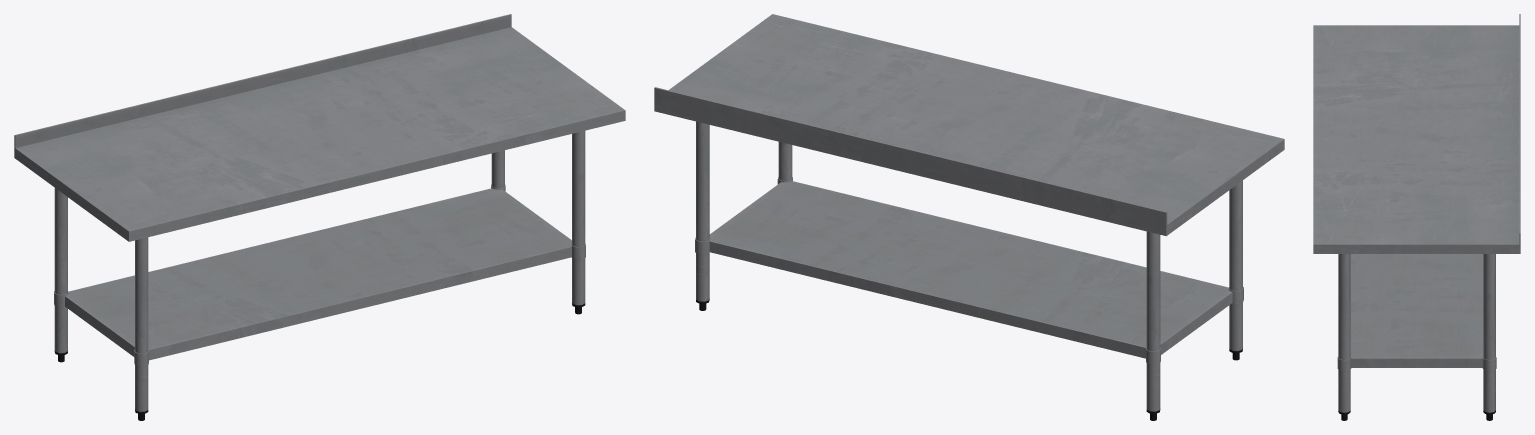
Rendered from SM_Stainless_Steel_Table_01.glb.
3 renders of one model, left to right at view 1: azimuth 30°, elevation 25°; view 2: azimuth 150°, elevation 25°; view 3: azimuth 270°, elevation 25°, orthographic. The views are drawn at different scales.
Visible parts, largest first — view 1: SM_Stainless_Steel_Table_01; view 2: SM_Stainless_Steel_Table_01; view 3: SM_Stainless_Steel_Table_01.
Boxes of the visible parts, bbox=[...] form: SM_Stainless_Steel_Table_01: bbox=[14, 14, 625, 420]; SM_Stainless_Steel_Table_01: bbox=[654, 14, 1284, 420]; SM_Stainless_Steel_Table_01: bbox=[1313, 14, 1520, 420].
Size of the model in its own units: 2.5 by 1.06 by 1.
Materials: 1 (1 with a texture image).
